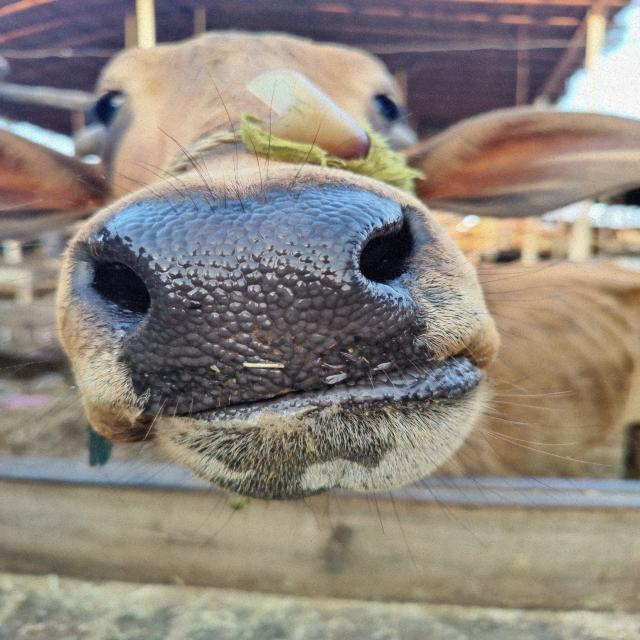muzzles: (60, 173, 468, 402)
